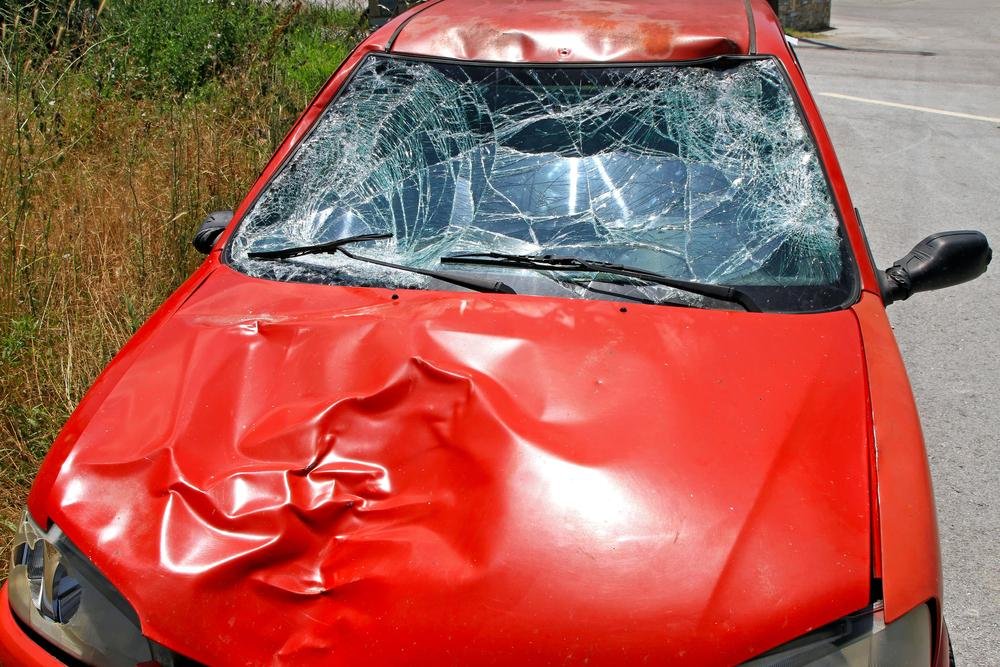dent: (63, 298, 677, 650), (395, 20, 735, 63)
glass shatter: (224, 53, 857, 312)
lamp broken: (9, 514, 160, 667)
